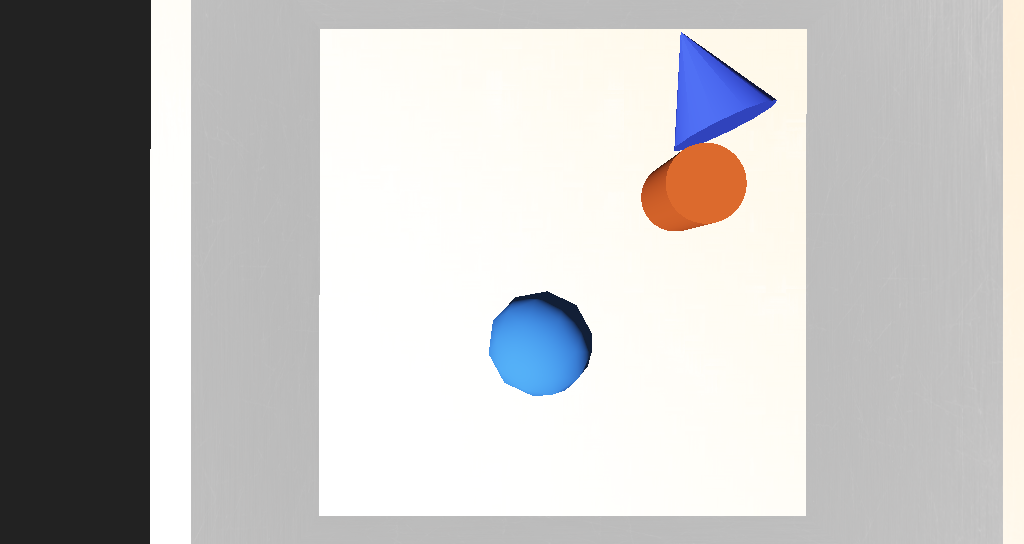cone: (552, 217, 606, 251)
cylinder: (549, 150, 637, 222)
sphere: (461, 279, 522, 322)
